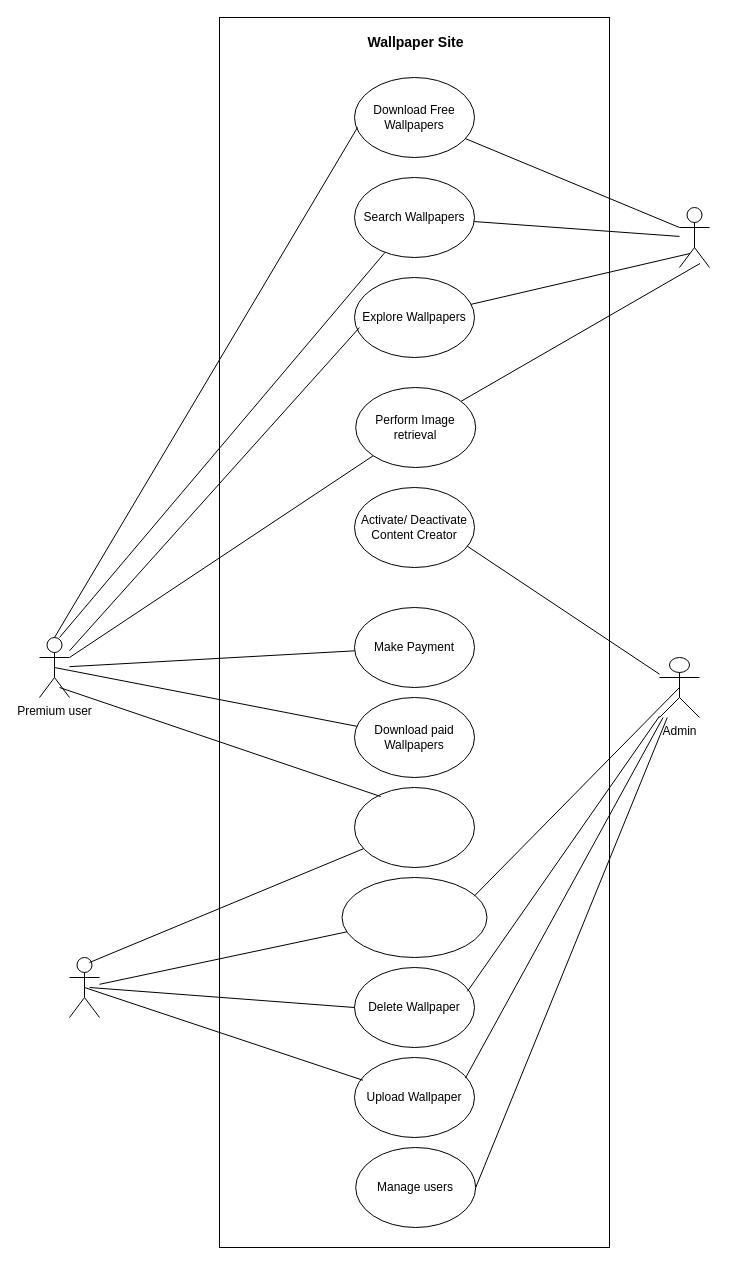
This 736x1265 diagram has some shape labels left out. Each missing label, with the centre of its shape:
"Content Creator" goes at (x=84, y=987).
"End user" goes at (x=694, y=237).
"Modify Wallpaper" goes at (x=414, y=917).
"Register Account" goes at (x=414, y=827).
